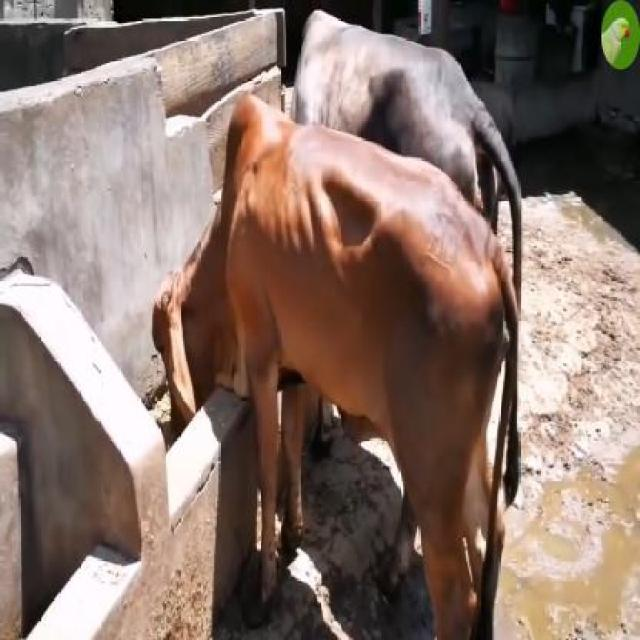Cow: (149, 97, 522, 638)
